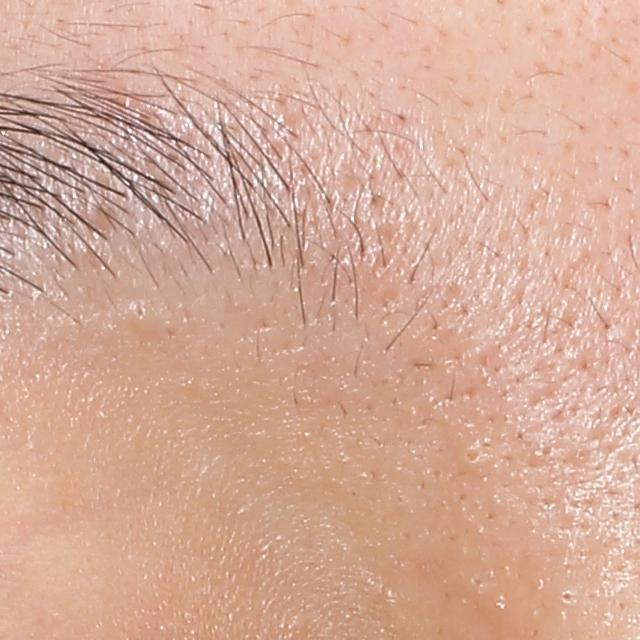comedo: (121, 296, 162, 339), (456, 443, 489, 475), (557, 588, 576, 608)
